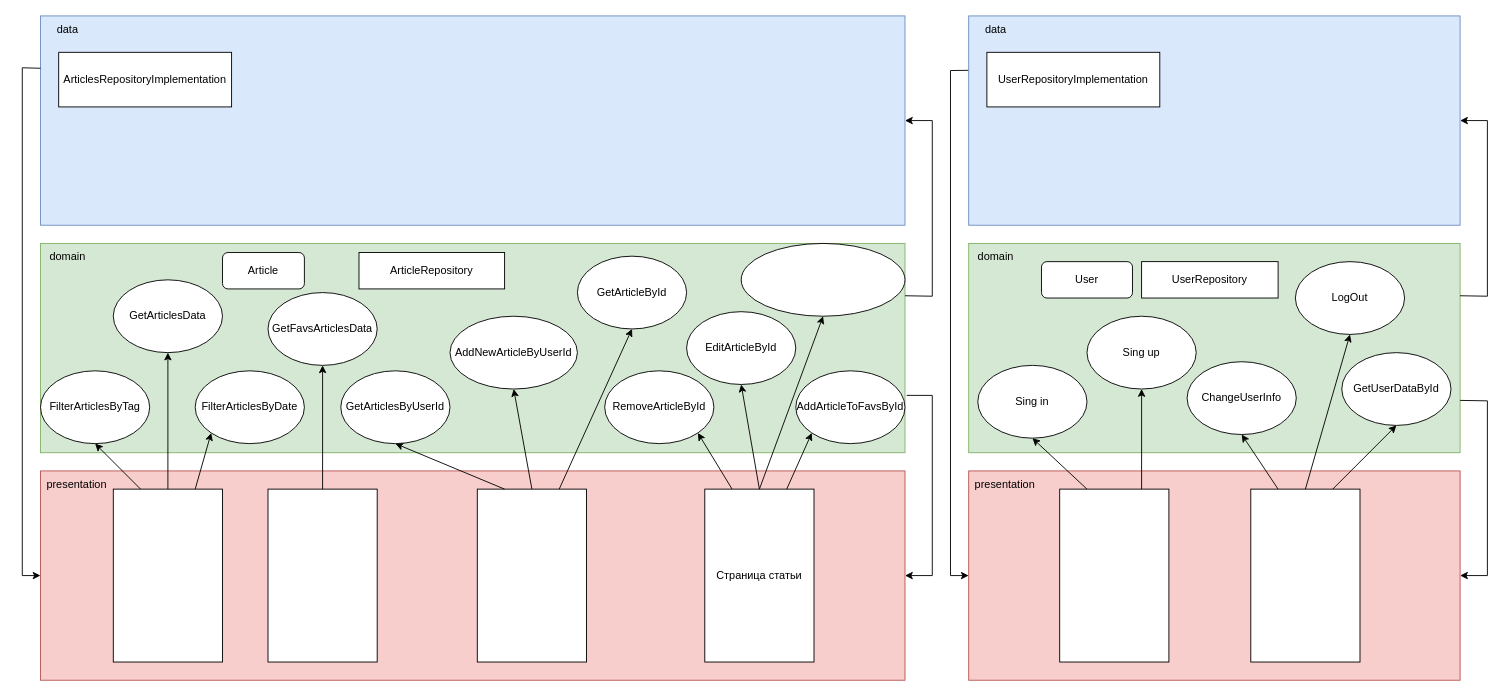
This 1511x696 diagram has some shape labels left out. The box of each missing label's shape, as (x1, y1, x2, y2) in pixels:
RemoveArticleFromFavsById: (740, 243, 905, 316)
Авторизация: (1059, 488, 1169, 662)
Каталог статей: (112, 488, 222, 662)
Личные статьи: (476, 488, 586, 662)
Личный кабинет: (1250, 488, 1360, 662)
Любимые статьи: (267, 488, 377, 662)
